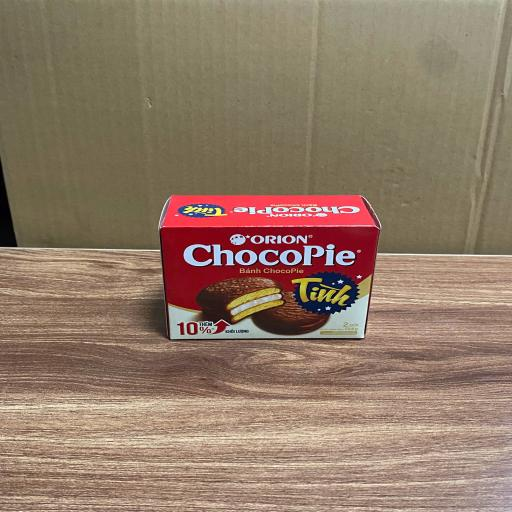chocopie: (160, 194, 379, 340)
